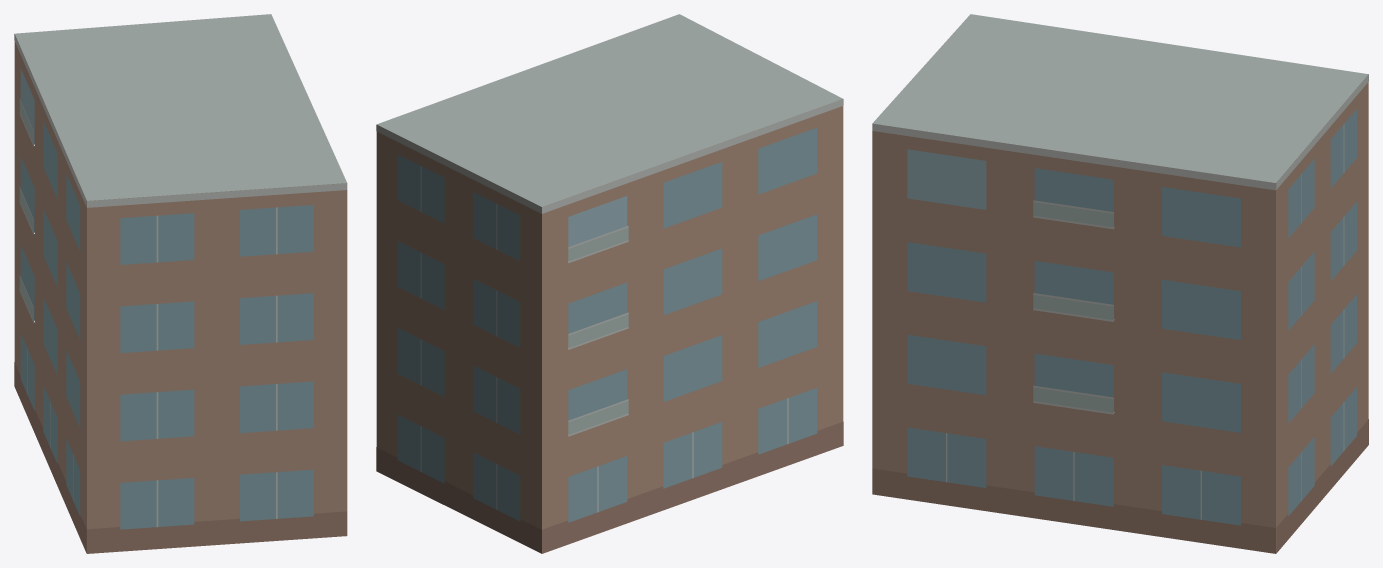
File: survey-upis-32958435.glb
The picture shows the model from 3 angles, left to right: view 1: azimuth 30°, elevation 25°; view 2: azimuth 150°, elevation 25°; view 3: azimuth 270°, elevation 25°; orthographic projection. The views are drawn at different scales.
Visible parts, largest first — view 1: survey-upis-32958435.tmp; view 2: survey-upis-32958435.tmp; view 3: survey-upis-32958435.tmp.
Boxes of the visible parts, x1=… form: survey-upis-32958435.tmp: x1=14, y1=14, x2=347, y2=553; survey-upis-32958435.tmp: x1=376, y1=14, x2=843, y2=553; survey-upis-32958435.tmp: x1=872, y1=14, x2=1368, y2=553.
Bounding box in the file's own units: 12.14 × 12.4 × 15.06.
